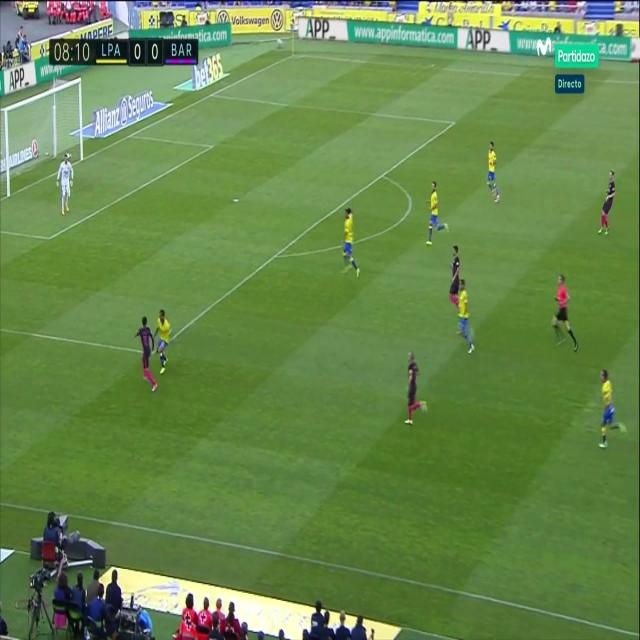Goalkeeper: (54, 150, 76, 218)
Player: (597, 366, 628, 454), (402, 349, 428, 430), (136, 313, 159, 395), (455, 275, 477, 356), (428, 179, 452, 249), (596, 166, 617, 240), (342, 205, 362, 280), (153, 307, 173, 376), (486, 137, 502, 209), (446, 242, 461, 312)
Referee: (549, 270, 581, 353)
